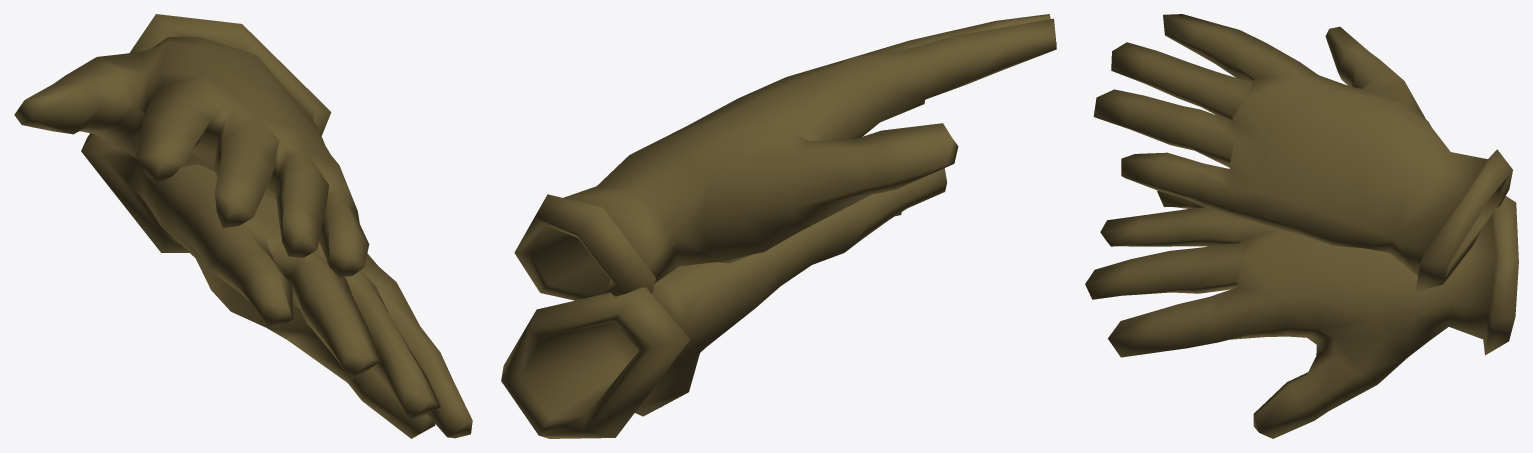
File: gloves.glb
3 views of the same model, side by side, from view 1: azimuth 30°, elevation 25°; view 2: azimuth 150°, elevation 25°; view 3: azimuth 270°, elevation 25° (orthographic). The views are drawn at different scales.
Visible parts, largest first — view 1: Glove.001, Glove; view 2: Glove.001, Glove; view 3: Glove.001, Glove.
Part boxes in pixels (<box>): Glove.001: <box>14,14,369,277</box>; Glove: <box>81,133,472,438</box>; Glove.001: <box>514,14,1056,300</box>; Glove: <box>501,168,946,438</box>; Glove.001: <box>1093,14,1512,291</box>; Glove: <box>1085,191,1518,438</box>.
Size of the model in its own units: 0.2089 by 0.2259 by 0.2904.
